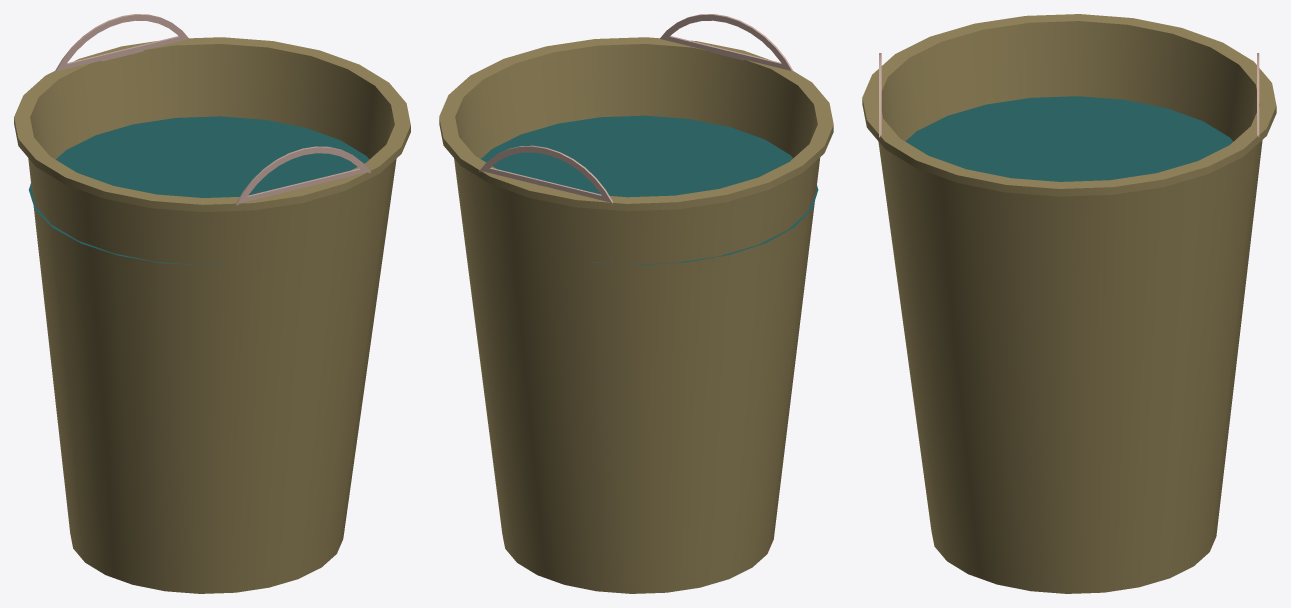
Rendered from basket_fishes.fbx.
3 renders of one model, left to right at view 1: azimuth 30°, elevation 25°; view 2: azimuth 150°, elevation 25°; view 3: azimuth 270°, elevation 25°, orthographic. The views are drawn at different scales.
Visible parts, largest first — view 1: Group2, Group1, Group4, Group3; view 2: Group2, Group1, Group3, Group4; view 3: Group2, Group1.
Part boxes in pixels (box(x1,y1,x2,y2)): Group2: box(14, 37, 410, 593); Group1: box(29, 116, 369, 265); Group4: box(55, 14, 188, 71); Group3: box(236, 146, 370, 205); Group2: box(439, 37, 833, 593); Group1: box(481, 115, 818, 265); Group3: box(660, 14, 793, 70); Group4: box(479, 145, 612, 204); Group2: box(862, 14, 1276, 593); Group1: box(905, 96, 1233, 181).
Bounding box in the file's own units: 30.69 × 38.77 × 30.69.
